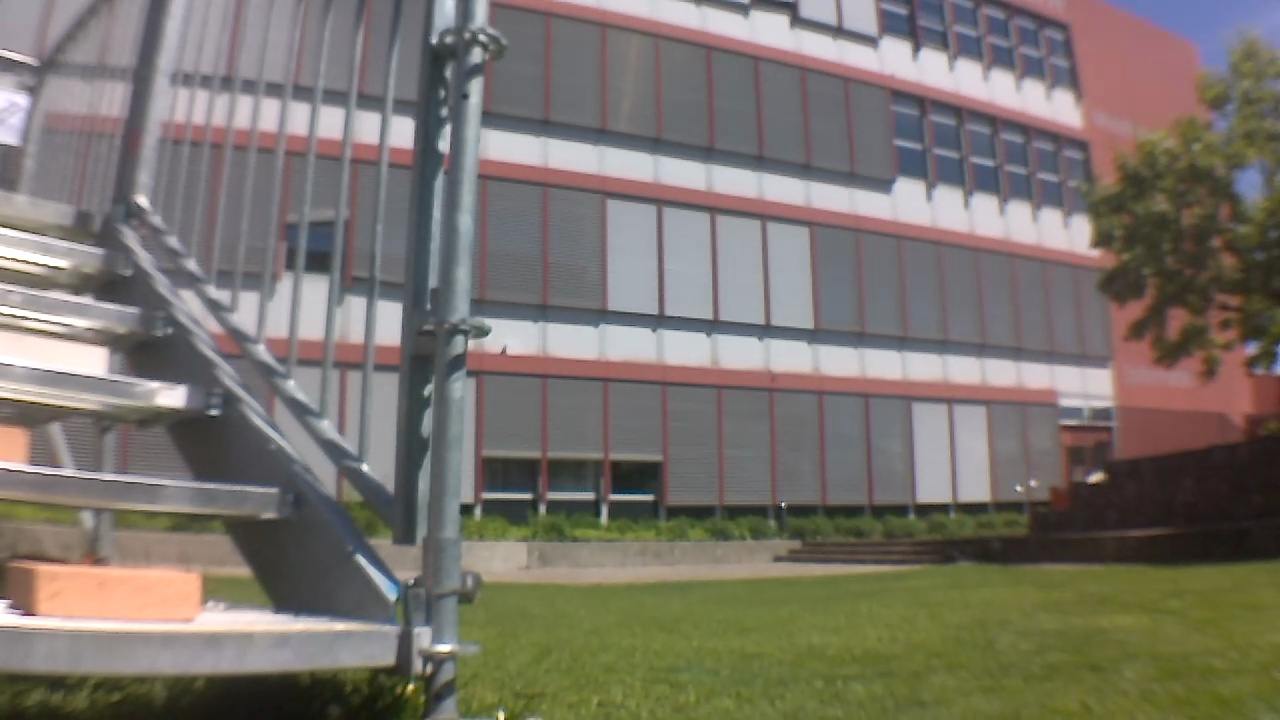brick: (15, 559, 206, 616), (0, 331, 110, 380)
stairs: (0, 0, 438, 713)
steps: (0, 184, 403, 671)
